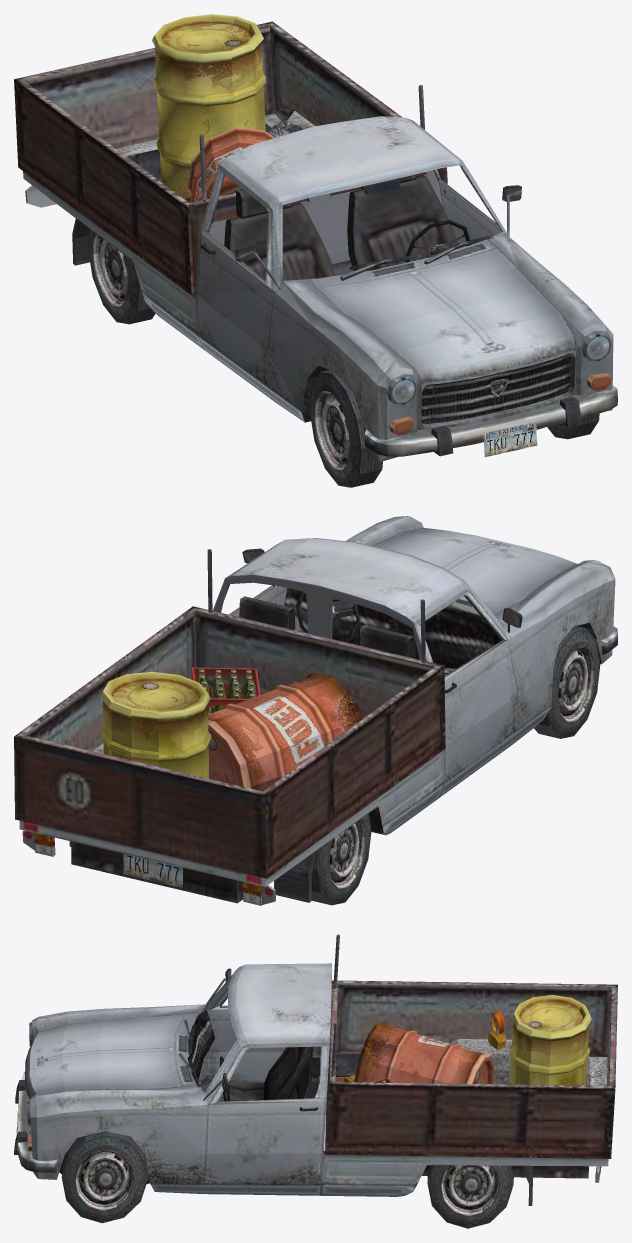
Rendered from cars.obj.
3 renders of one model, top to bottom at view 1: azimuth 30°, elevation 25°; view 2: azimuth 150°, elevation 25°; view 3: azimuth 270°, elevation 25°, orthographic. The views are drawn at different scales.
Visible parts, largest first — view 1: DrawCall11 Mesh, DrawCall15 Mesh, DrawCall10 Mesh; view 2: DrawCall11 Mesh, DrawCall10 Mesh, DrawCall15 Mesh, DrawCall29 Mesh; view 3: DrawCall11 Mesh, DrawCall15 Mesh, DrawCall10 Mesh, DrawCall26 Mesh.
Boxes of the visible parts, x1,y1,x2,y2 form: DrawCall11 Mesh: (14, 21, 617, 487); DrawCall15 Mesh: (152, 14, 266, 202); DrawCall10 Mesh: (187, 127, 274, 202); DrawCall11 Mesh: (14, 516, 617, 905); DrawCall10 Mesh: (208, 673, 364, 791); DrawCall15 Mesh: (100, 672, 211, 778); DrawCall29 Mesh: (192, 667, 260, 714); DrawCall11 Mesh: (14, 934, 617, 1228); DrawCall15 Mesh: (509, 995, 591, 1085); DrawCall10 Mesh: (354, 1022, 494, 1084); DrawCall26 Mesh: (344, 1011, 506, 1081).
Size of the model in its own units: 663 by 555 by 1508.
Materials: 7 (7 with a texture image).
